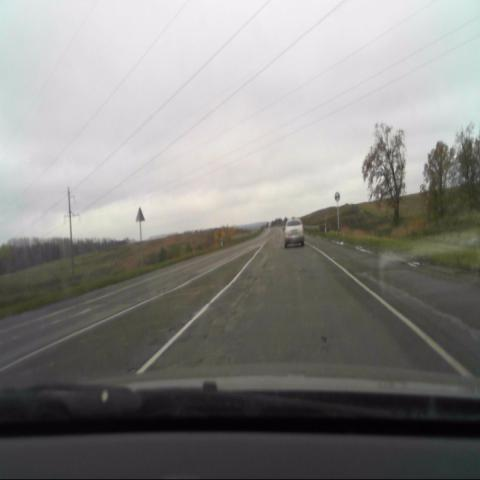3_21: (334, 190, 342, 203)
